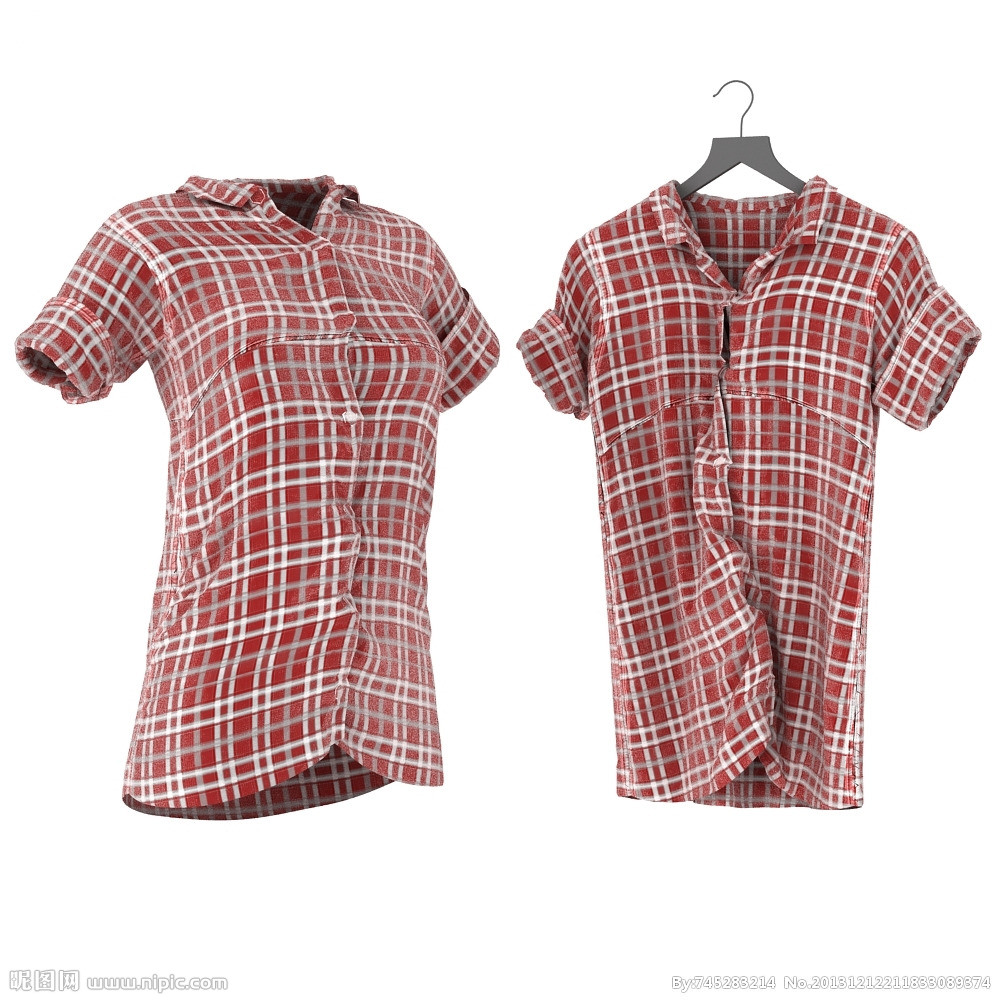flexible: (17, 177, 502, 823), (522, 180, 982, 810)
